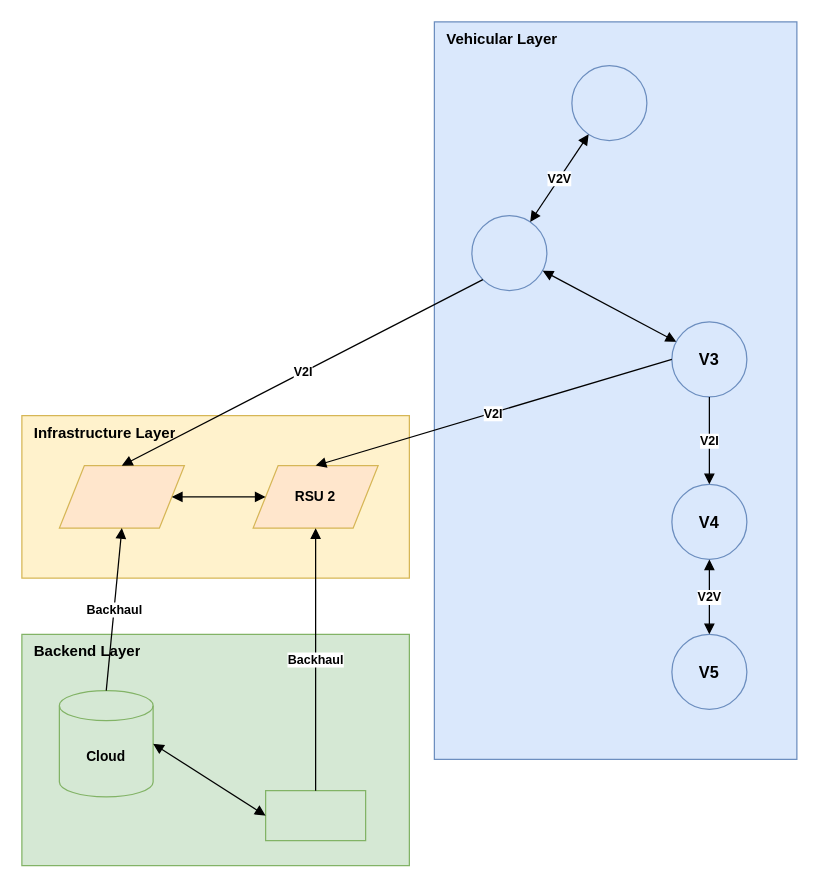
Image size: 819x891. Some labels were removed from this diagram. Here are the shapes that lost their labels. From the top down, the centre of each, then its label:
point 609,102: V1
point 509,252: V2
point 121,496: RSU 1
point 315,815: TMC
